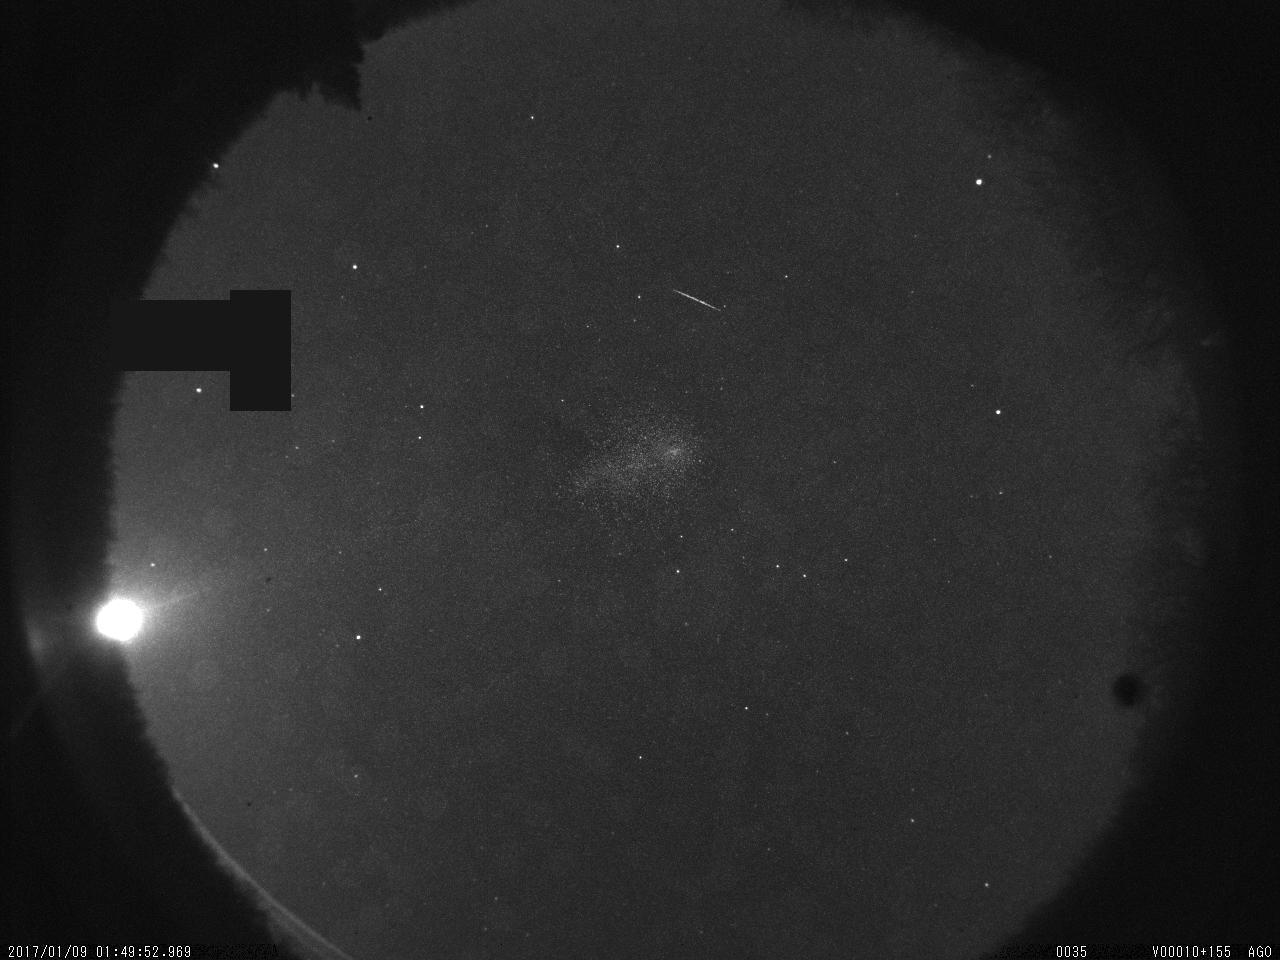meteor: (668, 277, 740, 332)
